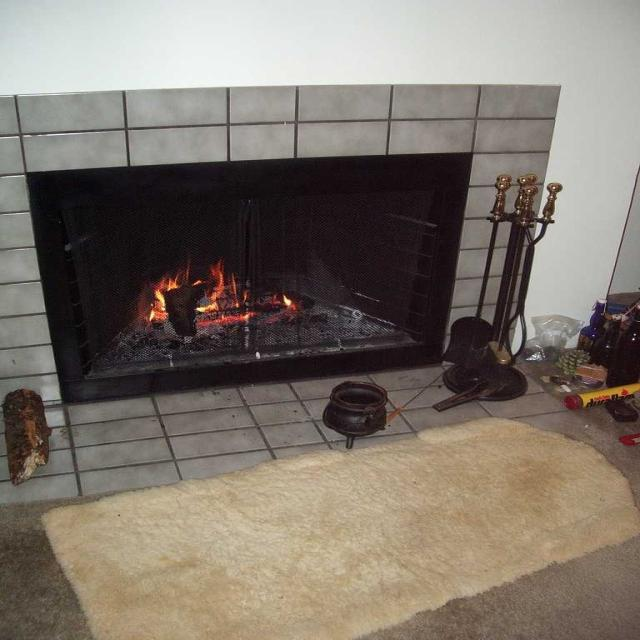Fire: (145, 263, 294, 323)
